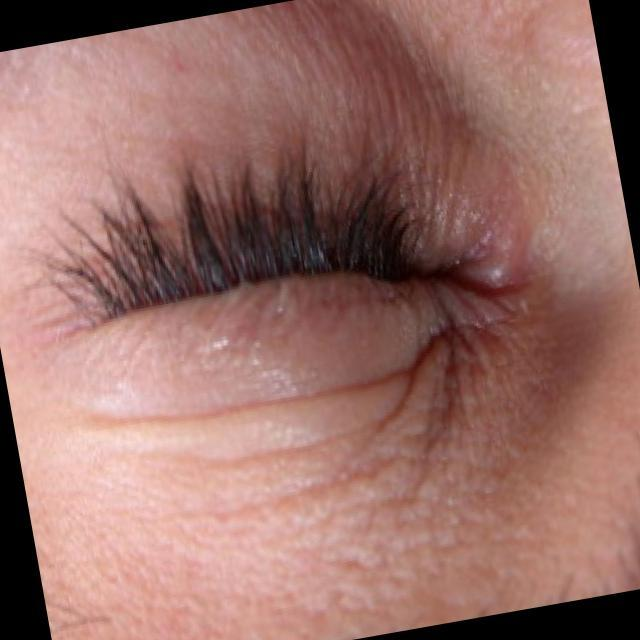Eczema: (49, 178, 502, 370)
